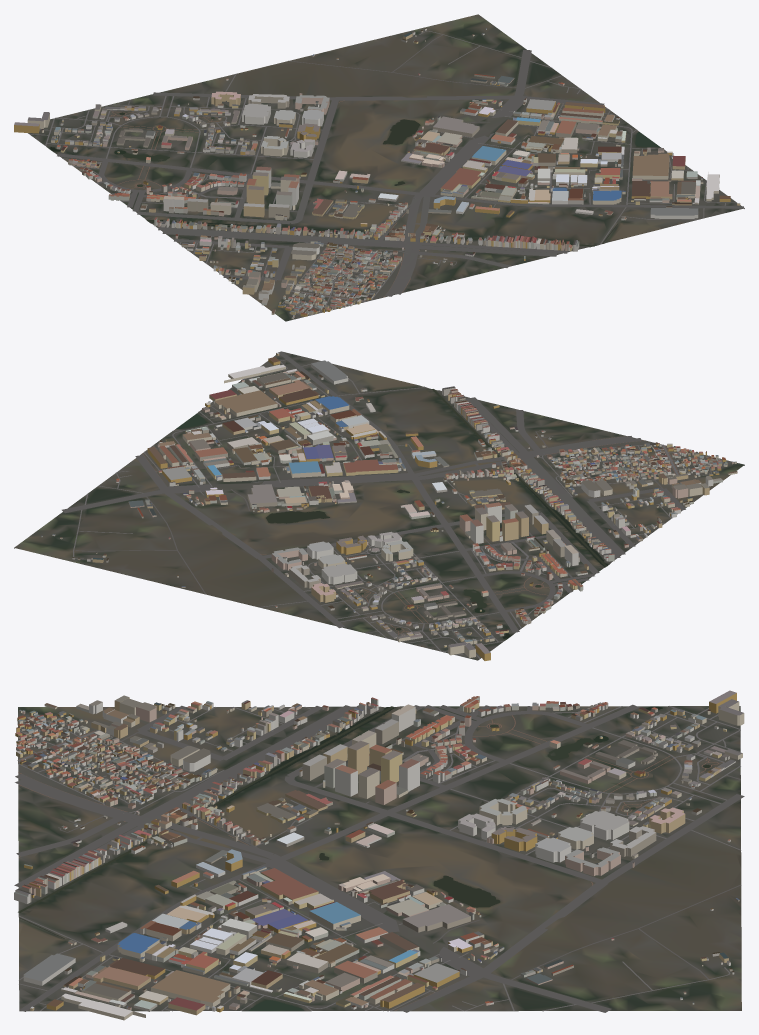
3 views of the same model, one above another, from view 1: azimuth 30°, elevation 25°; view 2: azimuth 150°, elevation 25°; view 3: azimuth 270°, elevation 25° (orthographic). The views are drawn at different scales.
Visible parts, largest first — view 1: ground, buildings, roads, water; view 2: ground, buildings, roads, water; view 3: ground, buildings, roads, water.
Boxes of the visible parts, box(x1,y1,x2,y2) form: ground: box(28, 14, 744, 321); buildings: box(14, 28, 740, 319); roads: box(29, 31, 743, 315); water: box(50, 112, 659, 246); ground: box(14, 351, 744, 660); buildings: box(41, 352, 737, 660); roads: box(62, 351, 723, 658); water: box(176, 386, 607, 638); ground: box(18, 706, 741, 1011); buildings: box(14, 690, 744, 1020); roads: box(14, 704, 744, 1012); water: box(18, 706, 710, 1010).
Size of the model in its own units: 1472 by 60.62 by 1418.
